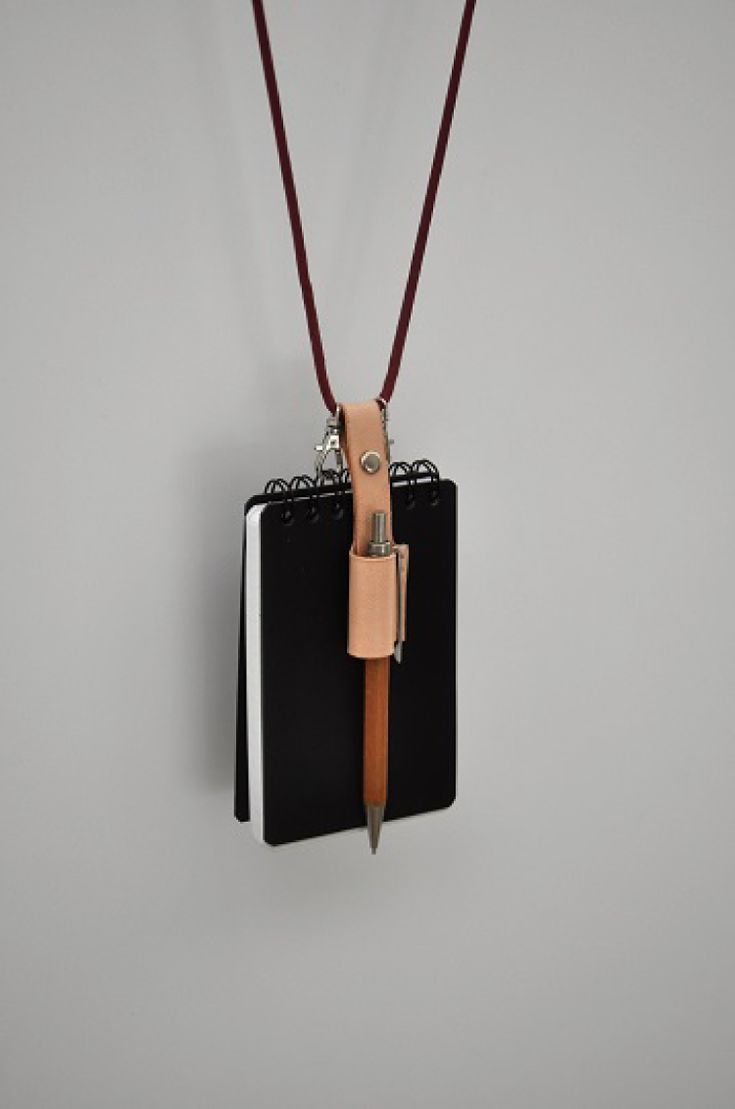cuero: (323, 393, 409, 668)
